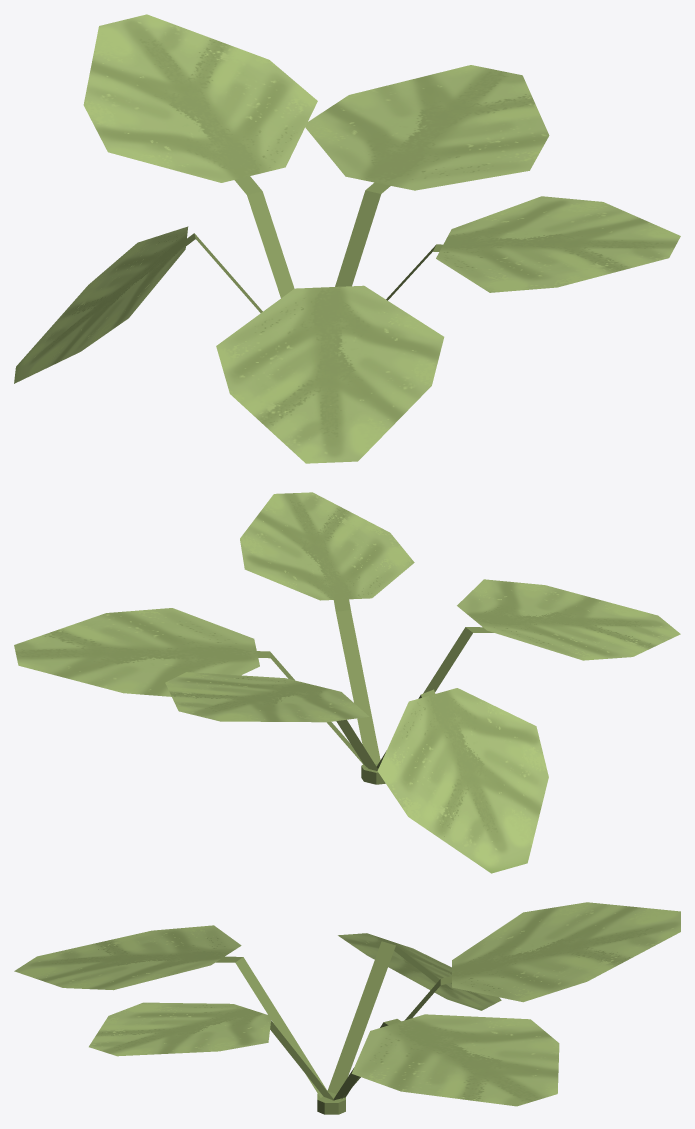
Rendered from SM_monstera.fbx.
3 views of the same model, one above another, from view 1: azimuth 30°, elevation 25°; view 2: azimuth 150°, elevation 25°; view 3: azimuth 270°, elevation 25° (orthographic). The views are drawn at different scales.
Visible parts, largest first — view 1: monstera; view 2: monstera; view 3: monstera.
Part boxes in pixels (x1,y1,x2,y2): monstera: (14, 14, 680, 463); monstera: (14, 492, 680, 873); monstera: (14, 902, 680, 1114).
Size of the model in its own units: 12.2 by 4.58 by 14.65.
